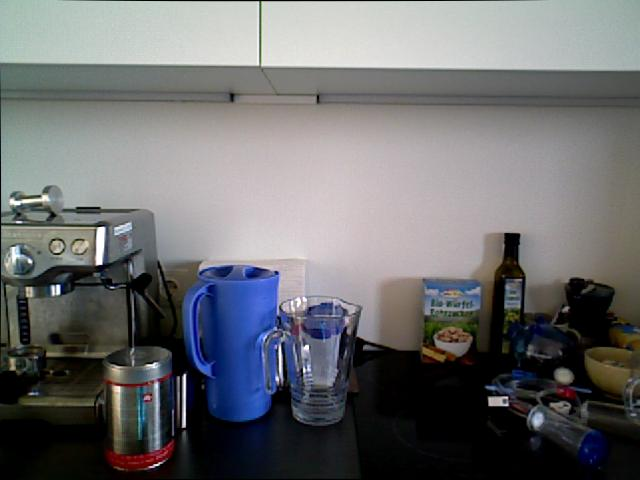bench: (489, 231, 526, 362)
bird: (583, 346, 639, 396), (431, 323, 474, 359)
handbag: (182, 264, 285, 422), (275, 295, 362, 426)
